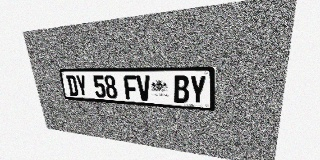5: (93, 75, 106, 98)
8: (104, 75, 118, 99)
B: (173, 75, 189, 103)
D: (66, 75, 79, 96)
F: (123, 75, 138, 100)
V: (136, 75, 151, 101)
Y: (189, 75, 206, 104), (75, 75, 88, 97)
